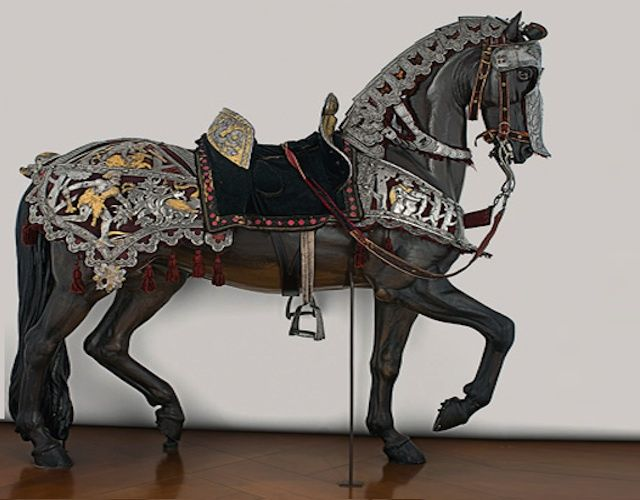Horse: (12, 10, 561, 493)
